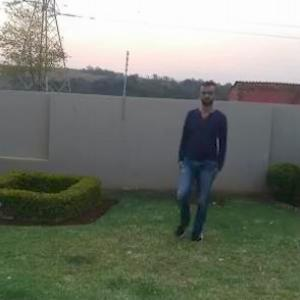follow: (174, 79, 228, 245)
